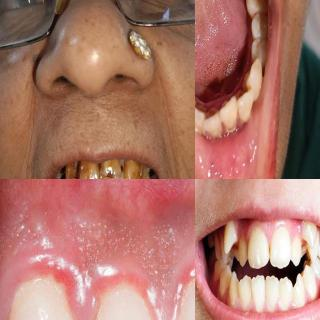Gum Swelling: (0, 247, 195, 320)
calculus: (222, 118, 241, 138), (205, 102, 221, 121), (239, 72, 252, 92), (72, 159, 82, 173), (195, 93, 199, 112)
maligned: (218, 219, 238, 255), (296, 216, 320, 244), (218, 96, 238, 124), (233, 234, 249, 267), (204, 104, 220, 134), (236, 88, 254, 113), (290, 235, 303, 269)
plaque: (2, 263, 74, 320)
stains: (52, 167, 66, 179)
